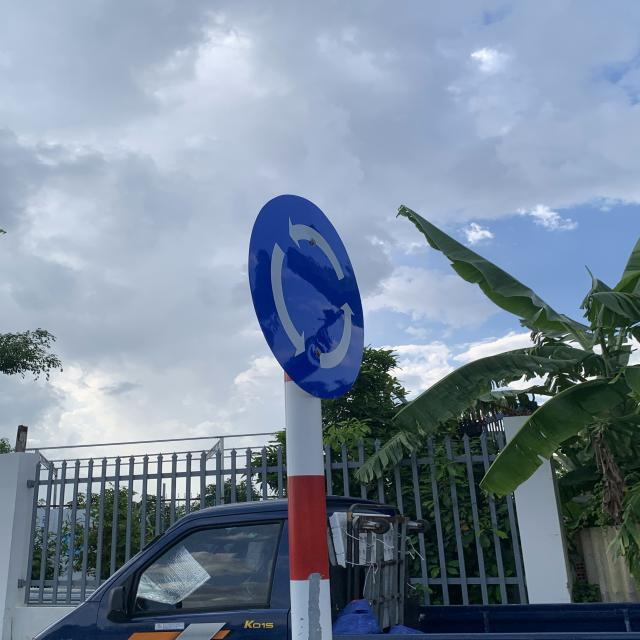Xe_Bus: (246, 191, 366, 400)
